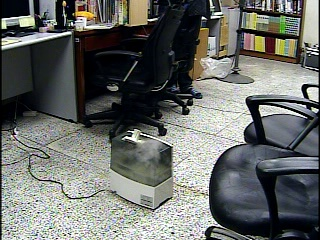smoke: (120, 134, 164, 173)
